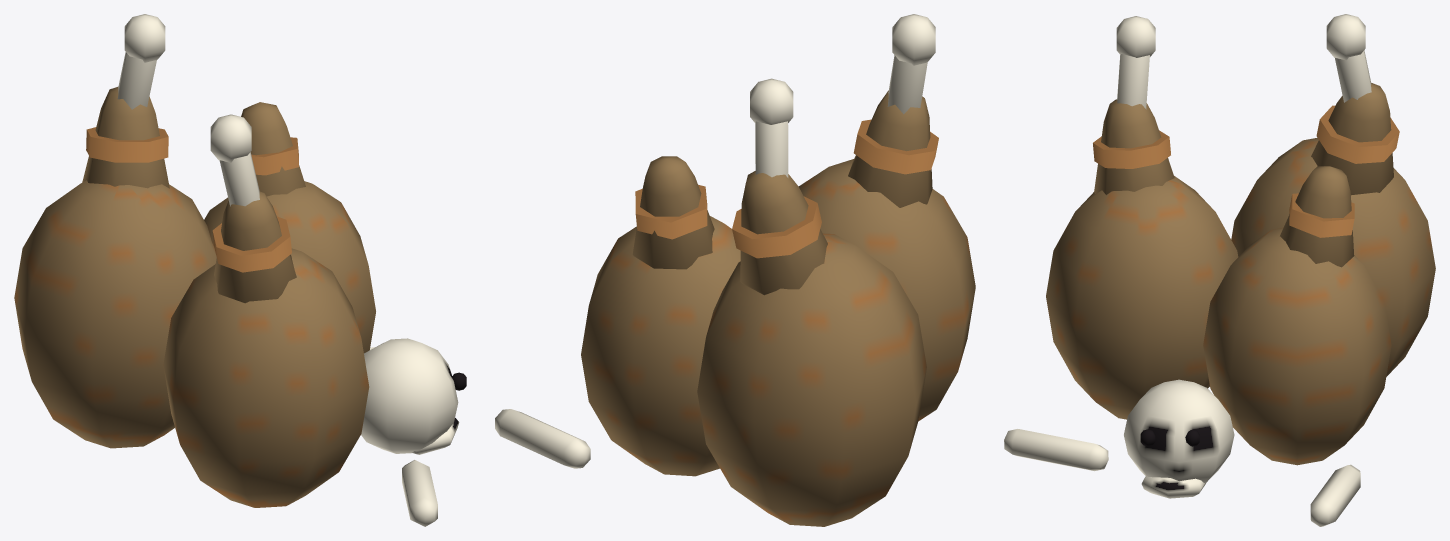
Rendered from prop_sacks4_eeb0.glb.
The picture shows the model from 3 angles, left to right: view 1: azimuth 30°, elevation 25°; view 2: azimuth 150°, elevation 25°; view 3: azimuth 270°, elevation 25°; orthographic projection. The views are drawn at different scales.
Visible parts, largest first — view 1: prop_sacks4_eeb0; view 2: prop_sacks4_eeb0; view 3: prop_sacks4_eeb0.
Boxes of the visible parts, x1=… form: prop_sacks4_eeb0: x1=14, y1=14, x2=466, y2=526; prop_sacks4_eeb0: x1=495, y1=14, x2=975, y2=526; prop_sacks4_eeb0: x1=1004, y1=14, x2=1435, y2=526.
Bounding box in the file's own units: 1.15 × 1.13 × 1.13.
Materials: 1 (1 with a texture image).
